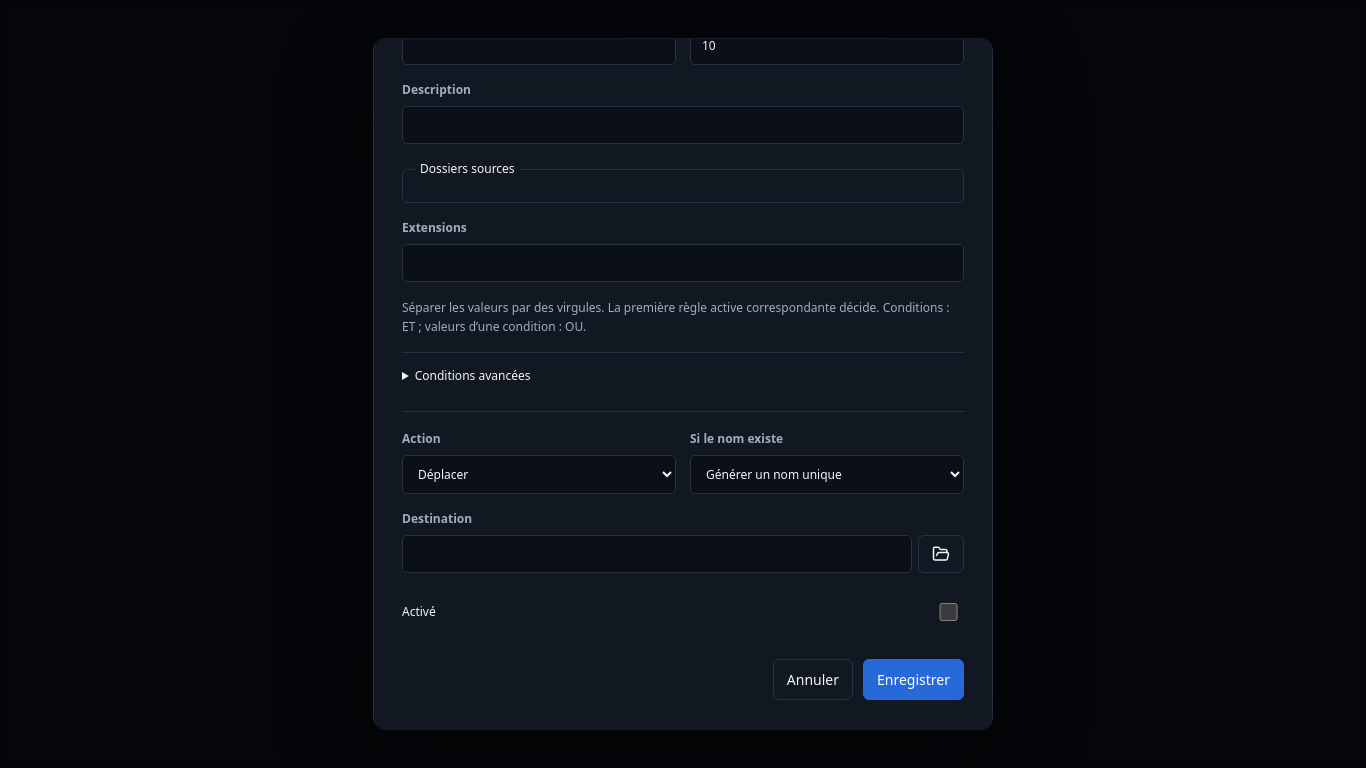
it: desktop interface › refuses invalid rule form before IPC
(page scrolled)
In the field labelled "Destination": (657, 555) left=402, top=536, right=912, bottom=574, type "C:\\Test"
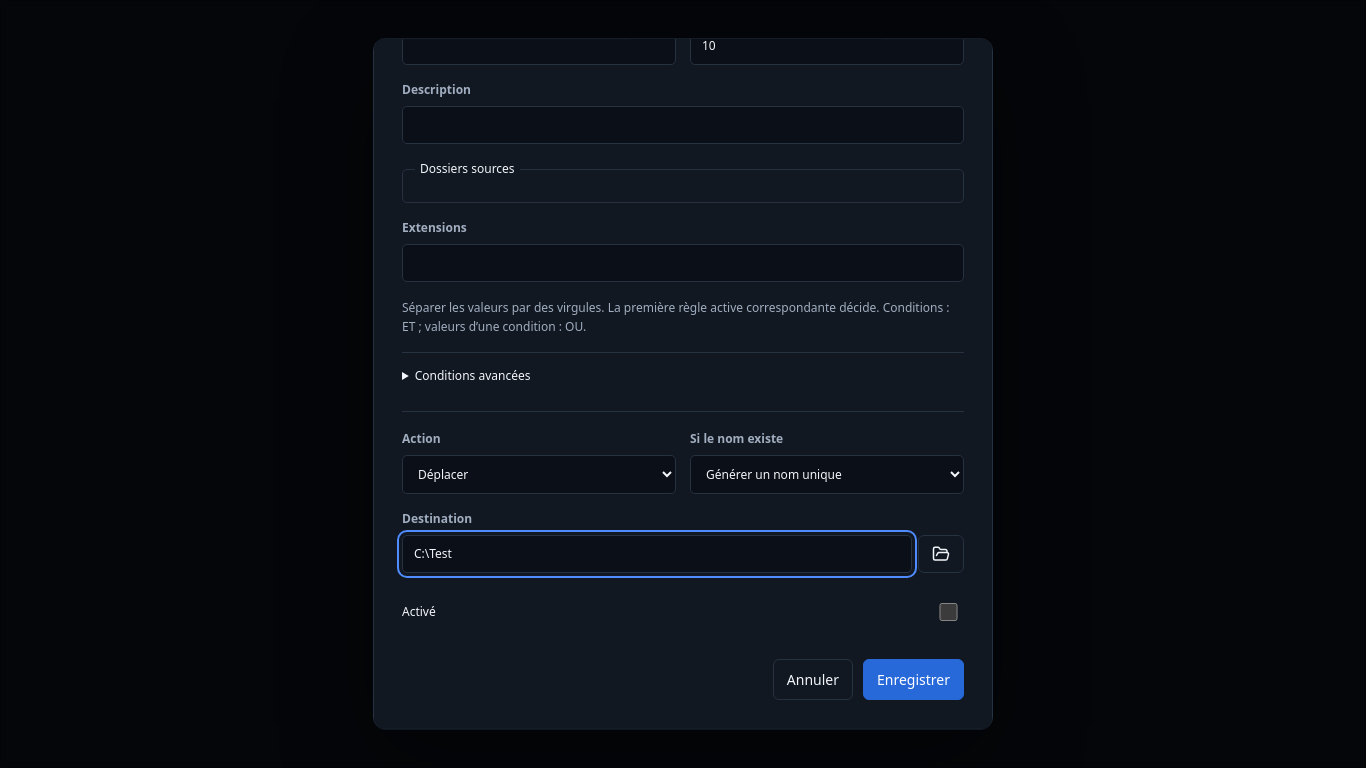
Click the button "Enregistrer": (914, 680) left=863, top=660, right=964, bottom=701
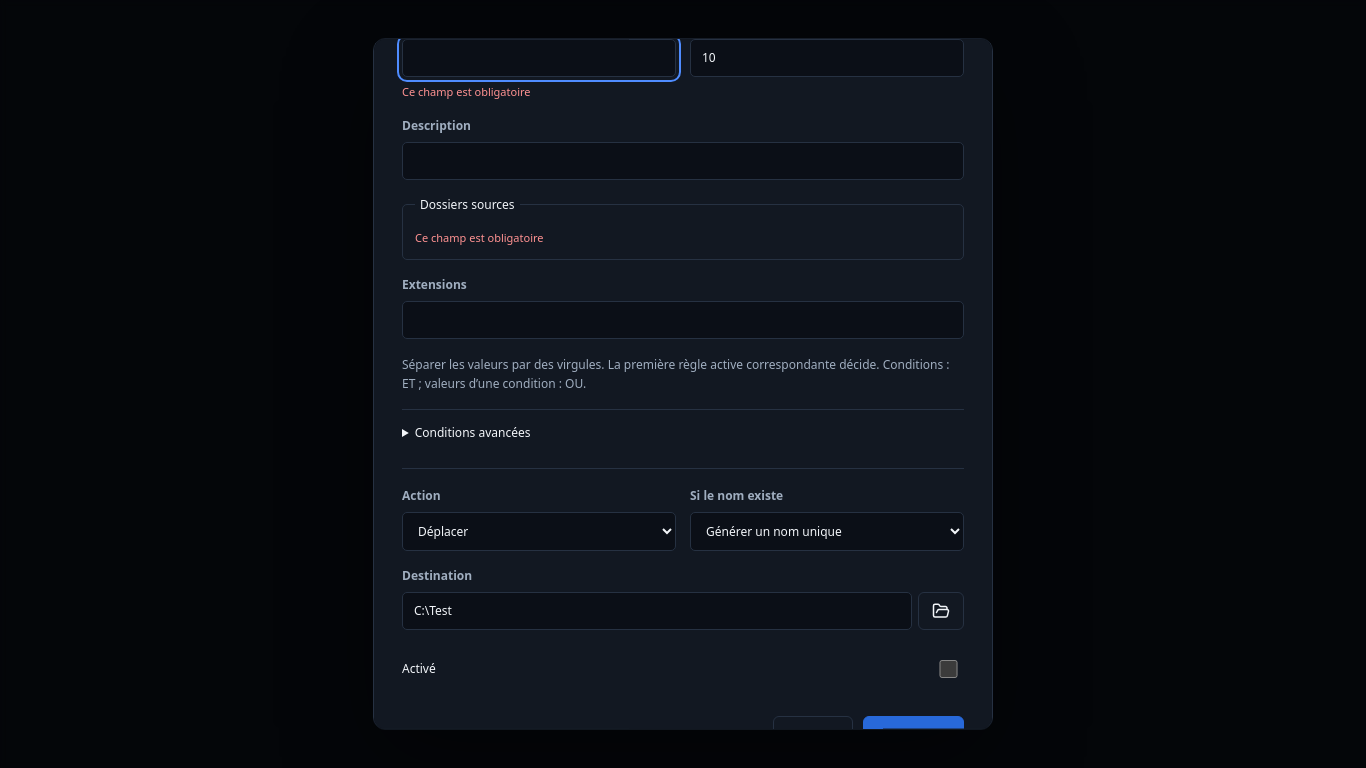
Check: the text "Ce champ est obligatoire" is shown 2 times, box left=402, top=84, right=530, bottom=99; left=415, top=230, right=544, bottom=245
